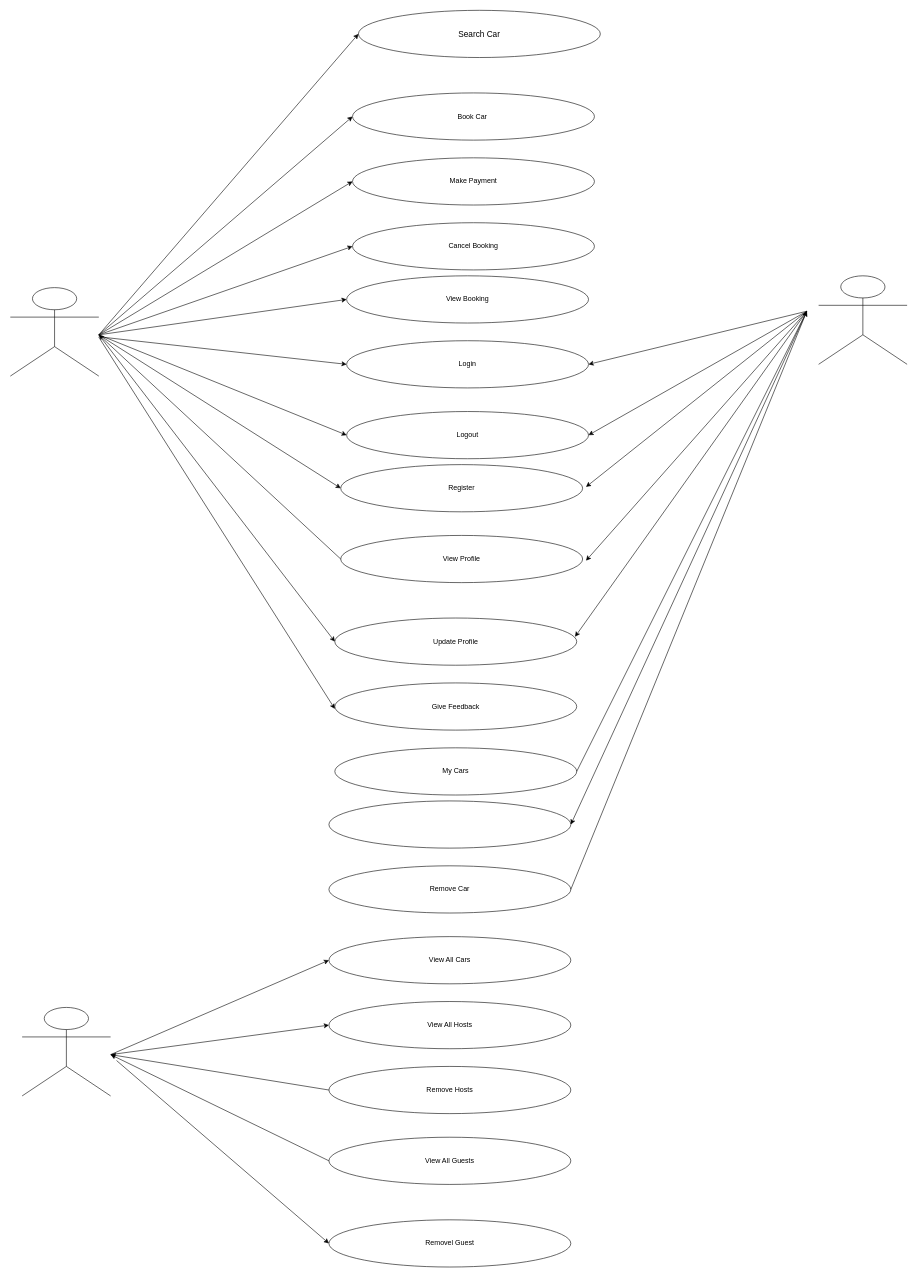
Some shapes in this 917 by 1277 pixel diagram are drawn without their labels. The shapes that lost their labels are listed below. From the top down, each one's box as (x1, y1, x2, y2) in pixels, then its label:
(10, 287, 99, 376): guest
(818, 275, 907, 364): Host
(328, 800, 571, 848): Add Car
(22, 1007, 111, 1096): Admin
